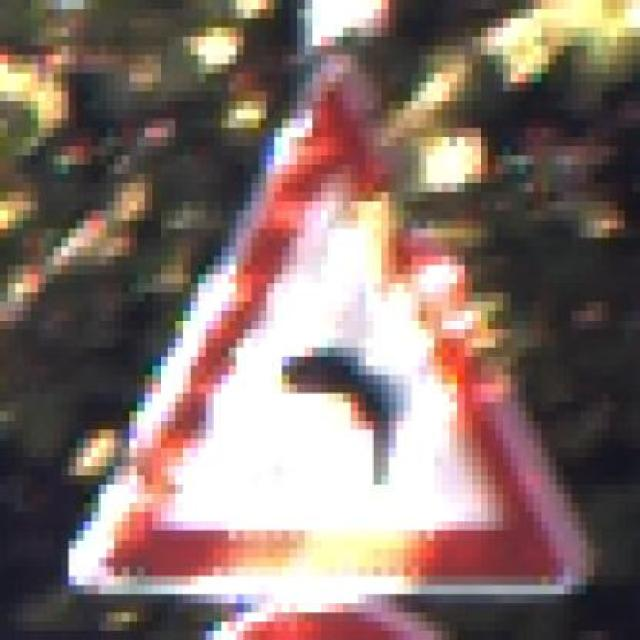Dangerous Left Curve Ahead: (84, 46, 587, 603)
